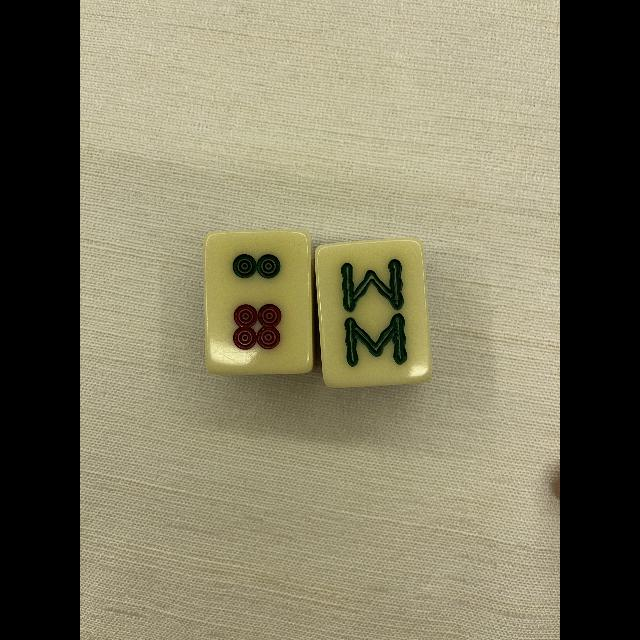b8: (322, 244, 426, 380)
d6: (208, 236, 308, 370)
